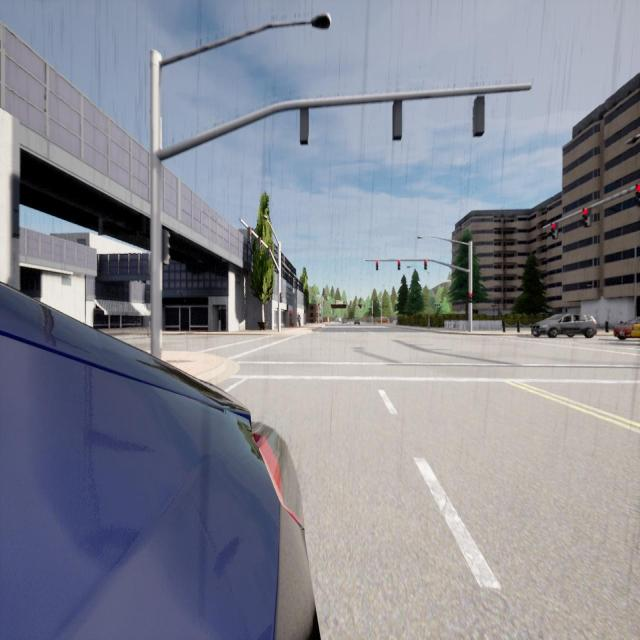Pedestrian: (297, 315, 301, 327)
Vehicle: (2, 282, 320, 640), (531, 313, 597, 338), (613, 317, 640, 340), (354, 319, 360, 325)
traffic_light: (473, 93, 484, 137), (392, 100, 402, 140), (300, 107, 310, 145), (162, 229, 170, 266), (582, 207, 592, 228), (551, 222, 559, 240), (635, 183, 640, 207), (247, 227, 253, 243), (468, 292, 473, 303), (267, 248, 271, 260), (258, 237, 261, 251), (279, 293, 283, 303), (424, 259, 427, 269), (376, 260, 378, 270), (398, 260, 400, 270)
